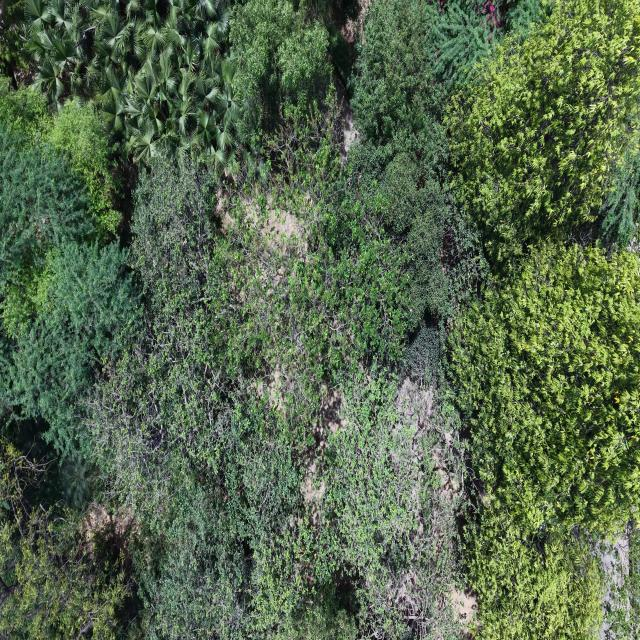VEGETATION_TREE: (0, 0, 639, 639), (88, 141, 457, 637), (445, 2, 639, 638), (449, 244, 639, 638), (449, 244, 639, 530), (446, 0, 639, 263), (0, 123, 138, 453), (351, 0, 488, 331), (25, 0, 240, 165), (0, 437, 130, 638), (465, 501, 603, 639), (0, 79, 122, 234), (351, 0, 447, 181), (230, 0, 331, 147), (48, 102, 121, 233), (600, 137, 639, 246), (603, 523, 639, 639), (0, 78, 52, 141), (0, 0, 26, 88)
